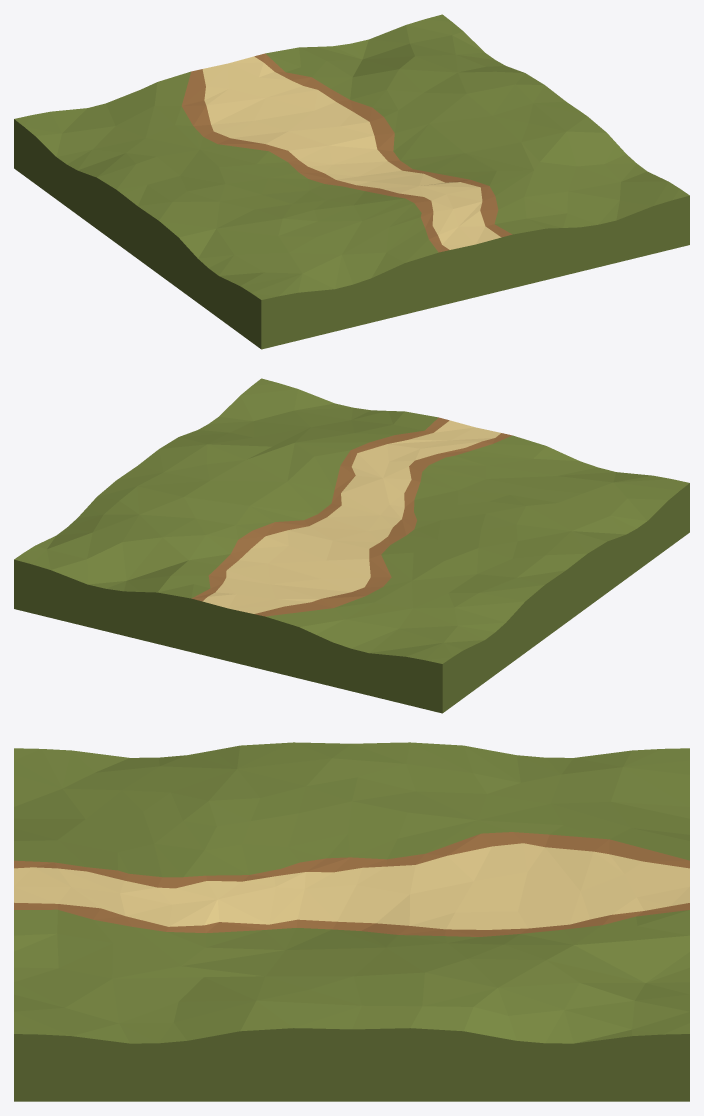
The model's file is Terrian_Road_Straight_Flat-06.fbx.
3 renders of one model, top to bottom at view 1: azimuth 30°, elevation 25°; view 2: azimuth 150°, elevation 25°; view 3: azimuth 270°, elevation 25°, orthographic. The views are drawn at different scales.
Parts seen in each view (by area): view 1: Terrian_Road_Straight_Flat-06; view 2: Terrian_Road_Straight_Flat-06; view 3: Terrian_Road_Straight_Flat-06.
Boxes of the visible parts, x1,y1,x2,y2 form: Terrian_Road_Straight_Flat-06: (14, 14, 689, 349); Terrian_Road_Straight_Flat-06: (14, 378, 689, 713); Terrian_Road_Straight_Flat-06: (14, 742, 689, 1101).
Bounding box in the file's own units: 3600 × 472 × 3600.
Materials: 1 (1 with a texture image).
